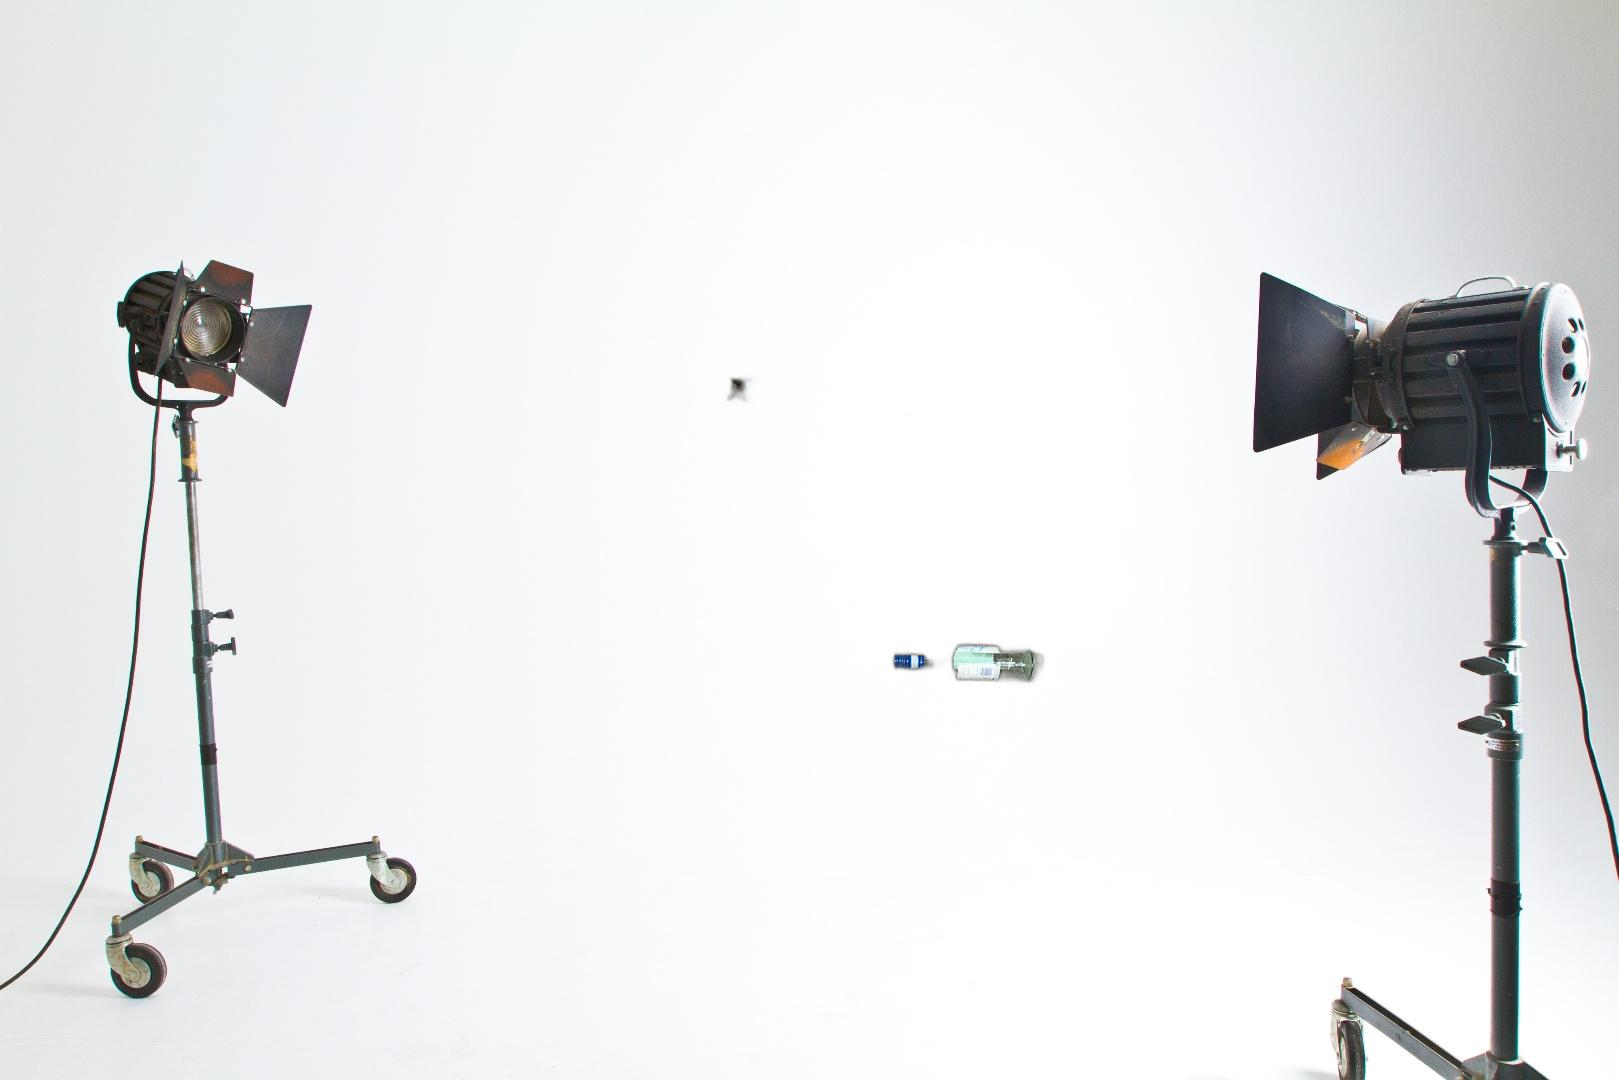glass: (888, 638, 1048, 984)
trash: (1108, 1072, 1296, 1080)
trashbox-cardboard: (725, 372, 933, 417)
